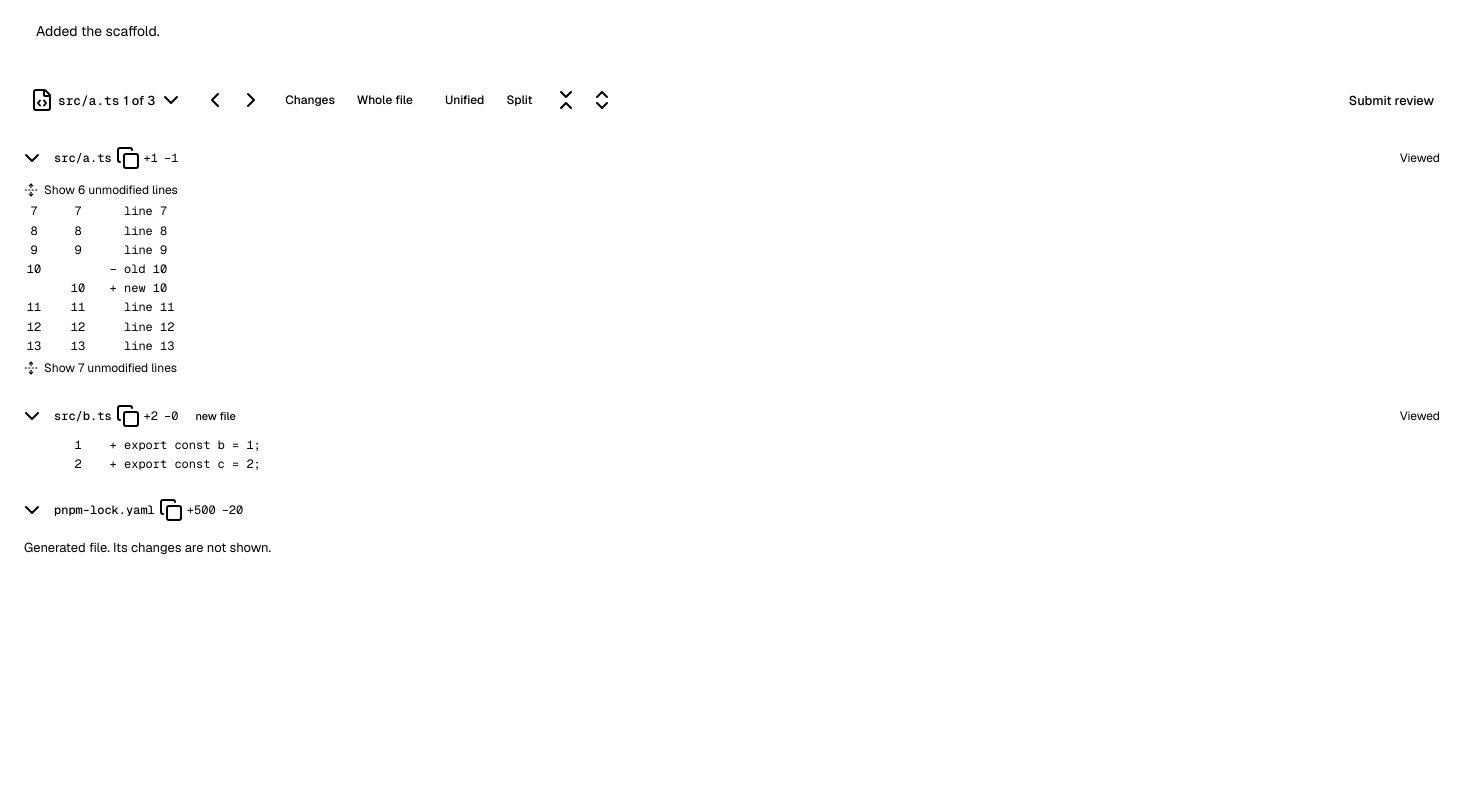
it: unchanged lines fold around the change, expand in place, and the whole file shows them all
This screenshot has width=1464, height=810.
Click the button "Show 6 unmodified lines".
click(111, 190)  # box [12,178,1452,202]
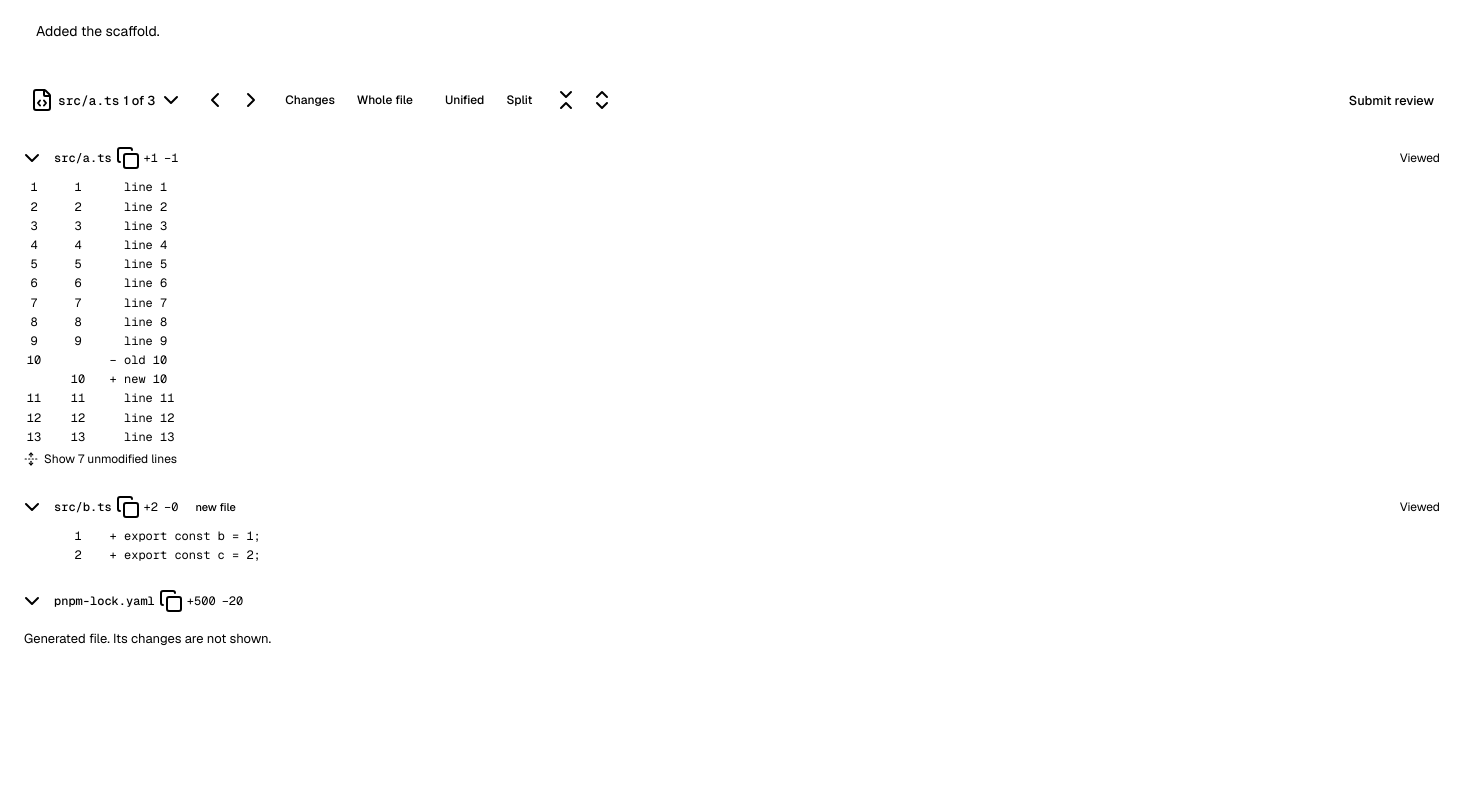
Check: the text "line 20" is not shown
Check: the text "line 1" is shown, box [120,178,1452,198]
Click the radio button labelled "Whole file".
click(385, 100)  # box [347,88,423,112]
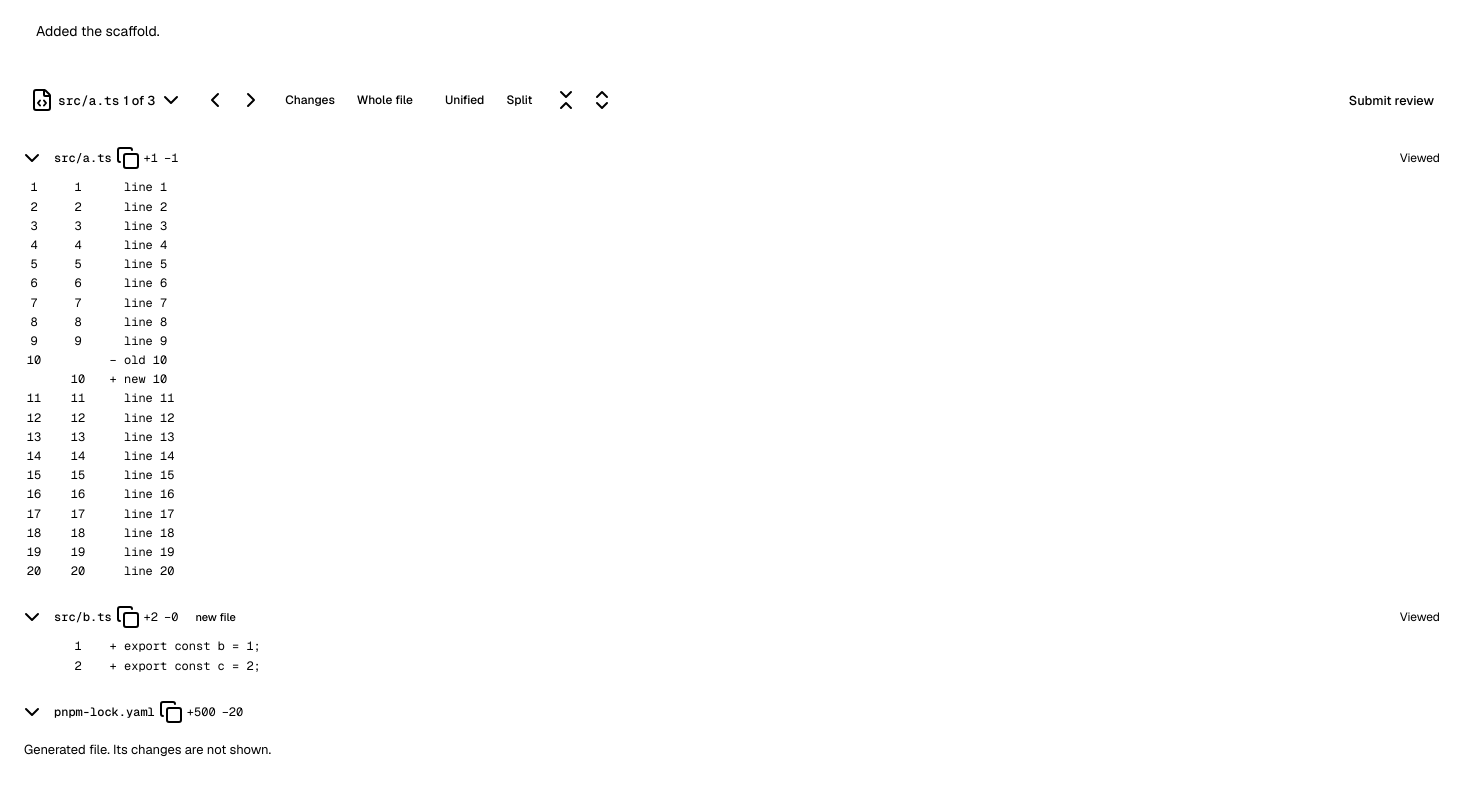
Check: the text "line 20" is shown, box [120,562,1452,581]
